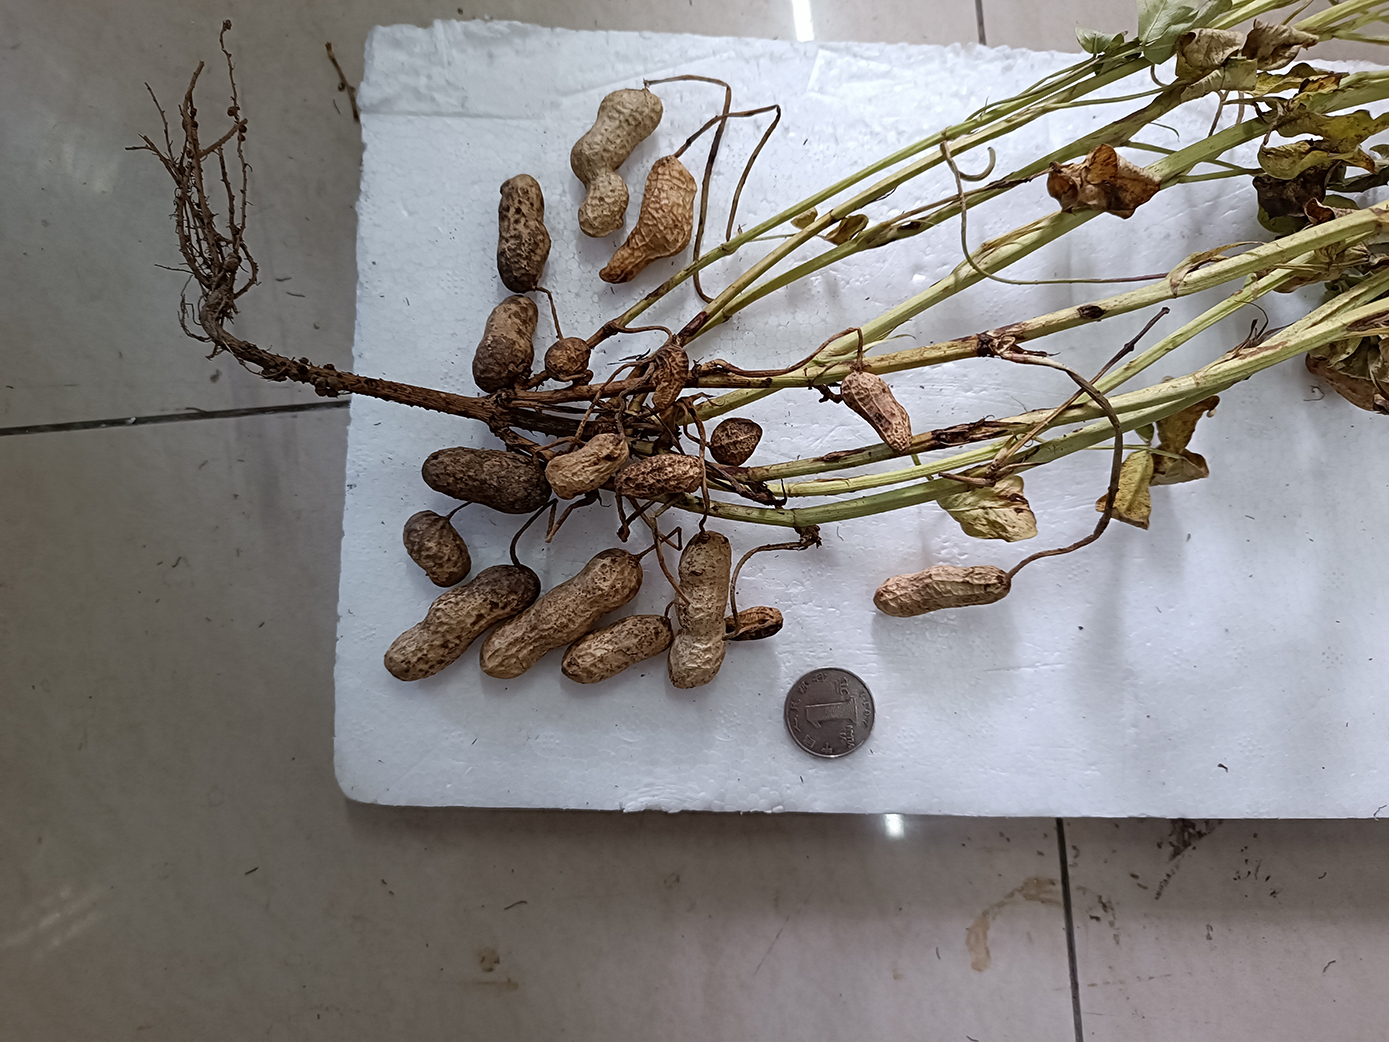h: (477, 546, 643, 678), (384, 566, 541, 682), (571, 88, 664, 238), (600, 155, 693, 285), (668, 530, 724, 688), (560, 615, 672, 683), (873, 565, 1011, 620), (472, 296, 539, 393), (496, 174, 551, 292), (840, 373, 914, 454), (546, 433, 628, 496), (611, 453, 704, 500), (711, 419, 763, 466), (651, 343, 686, 408), (722, 607, 786, 640), (544, 338, 591, 382)
l: (423, 443, 548, 516), (403, 510, 473, 586)
